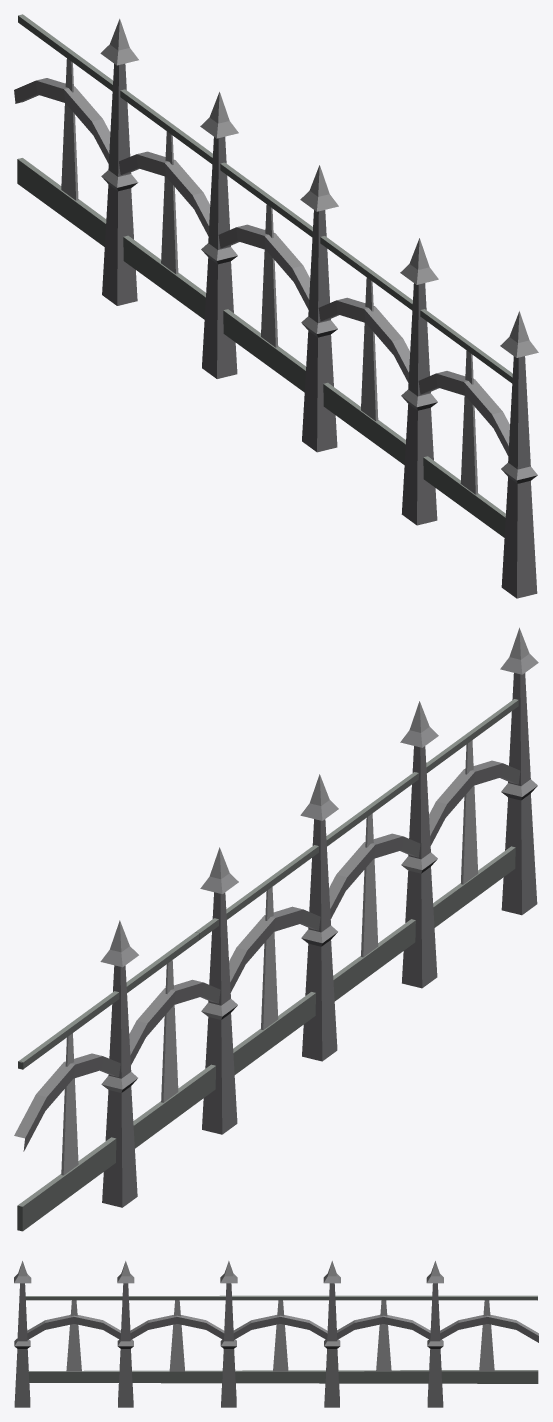
File: FenceIronLarge_01.glb
3 views of the same model, one above another, from view 1: azimuth 30°, elevation 25°; view 2: azimuth 150°, elevation 25°; view 3: azimuth 270°, elevation 25° (orthographic). The views are drawn at different scales.
Parts seen in each view (by area): view 1: FenceIronLarge_01; view 2: FenceIronLarge_01; view 3: FenceIronLarge_01.
Part boxes in pixels (x1=…): FenceIronLarge_01: x1=14, y1=14, x2=538, y2=598; FenceIronLarge_01: x1=14, y1=627, x2=538, y2=1231; FenceIronLarge_01: x1=14, y1=1261, x2=538, y2=1407.
Size of what is drawn, in the model's own units: 0.1294 by 1.55 by 5.09.
Materials: 1 (1 with a texture image).
